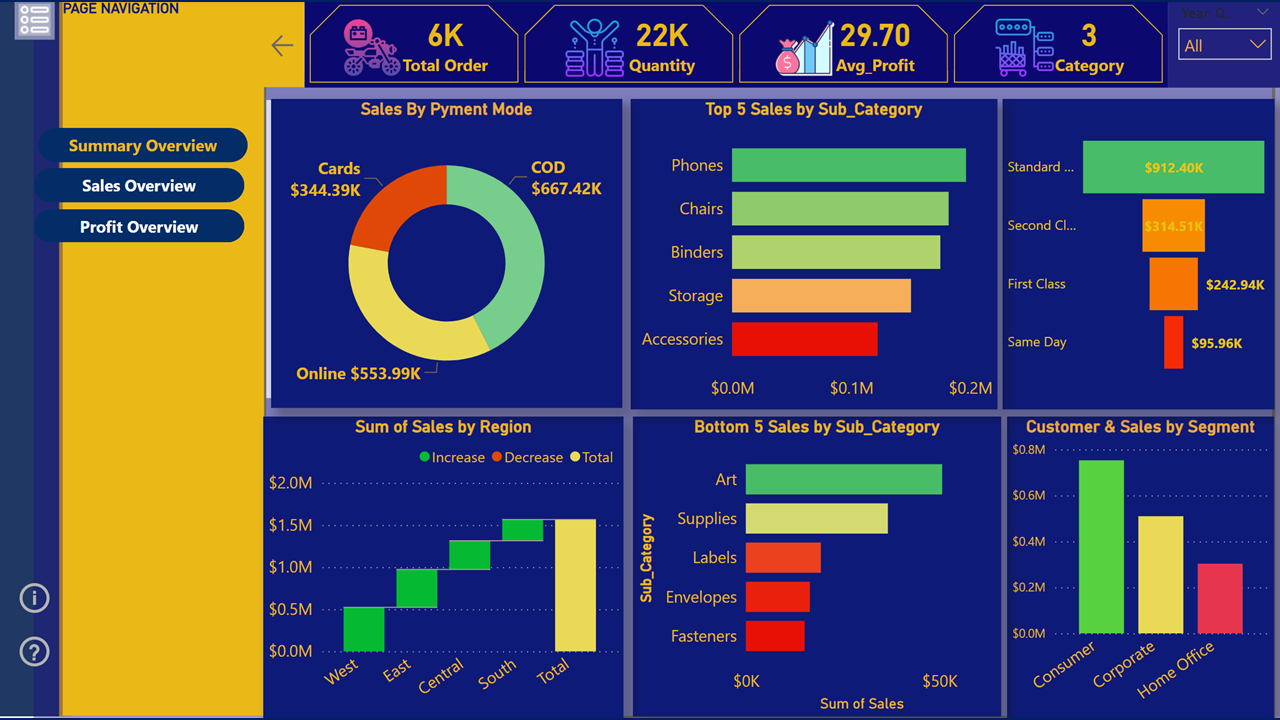

The dashboard page shown, as its layout file describes it:
{"tool":"powerbi","page":{"name":"Summary Overview","canvas":[1280,720],"ordinal":1},"visuals":[{"type":"group","id":"g1","title":"Menu Objects","box":[36.6,0,1227.9,717.3],"z":0},{"type":"group","id":"g2","title":"Menu Bar","box":[16.5,0,40,673],"z":1000},{"type":"actionButton","title":"Qs","box":[16.5,633.1,39.8,39.8],"z":6125,"group":"g2"},{"type":"actionButton","title":"Info","box":[16.5,579.6,39.8,39.8],"z":6250,"group":"g2"},{"type":"actionButton","title":"Menu","box":[16.5,0,40,40],"z":6500,"group":"g2"},{"type":"actionButton","title":"Close Button","box":[261.2,2.9,47.5,74.2],"z":8000,"group":"g1"},{"type":"shape","title":"📚PAGE NAVIGATOR","box":[59.2,0,200.5,717.2],"z":9000,"group":"g1"},{"type":"actionButton","title":"Profit","box":[40.7,210.9,209.2,34],"z":10000,"group":"g1"},{"type":"actionButton","title":"Sales","box":[42.7,165.2,209.2,34],"z":12000,"group":"g1"},{"type":"waterfallChart","title":"Sum of Sales by Year","fields":{"Y":["Sum(SuperStore_Sales.Sales)"],"Category":["SuperStore_Sales.Ship_Date.Variation.Date Hierarchy.Year"]},"box":[906.6,427.3,357.3,286.3],"z":12156,"group":"g1"},{"type":"clusteredBarChart","title":"Sales by Category ","fields":{"Category":["SuperStore_Sales.Category"],"Y":["Sum(SuperStore_Sales.Sales)"]},"box":[269.3,427.4,323.6,288.1],"z":12312,"group":"g1"},{"type":"clusteredBarChart","title":"Sales by Product_Name","fields":{"Category":["SuperStore_Sales.Sub_Category"],"Y":["Sum(SuperStore_Sales.Sales)"]},"box":[598.8,427.3,298.1,289.5],"z":12343,"group":"g1"},{"type":"shapeMap","fields":{"Category":["SuperStore_Sales.State"],"Value":["CountNonNull(SuperStore_Sales.City)"],"Series":["SuperStore_Sales.City Hierarchy.City"]},"box":[1044.5,186.3,217.1,234.2],"z":12351,"group":"g1"},{"type":"donutChart","title":"Sales by Payment Mode","fields":{"Category":["SuperStore_Sales.Payment_Mode"],"Y":["Sum(SuperStore_Sales.Sales)"]},"box":[786.7,186.3,248.6,234.2],"z":12359,"group":"g1"},{"type":"pieChart","title":"Sales by Segment","fields":{"Y":["Sum(SuperStore_Sales.Sales)"],"Category":["SuperStore_Sales.Segment"]},"box":[527.1,188.7,249.2,230.6],"z":12375,"group":"g1"},{"type":"donutChart","title":"Sales by Ship Mode","fields":{"Y":["Sum(SuperStore_Sales.Sales)"],"Category":["SuperStore_Sales.Ship_Mode"]},"box":[269.5,186.1,250,230],"z":12625,"group":"g1"},{"type":"image","title":"Image-Cat","box":[1094.1,83.1,164.8,95.6],"z":12750,"group":"g1"},{"type":"card","title":"Category","fields":{"Values":["Count(SuperStore_Sales.Category)"]},"box":[1095.5,78.8,148.7,98.7],"z":13000,"group":"g1"},{"type":"image","box":[1095.3,89.8,44.9,46.4],"z":13375,"group":"g1"},{"type":"image","title":"Image-Sub Cat","box":[933.4,83.1,152.4,95.6],"z":13750,"group":"g1"},{"type":"card","title":"Sub Category","fields":{"Values":["Count(SuperStore_Sales.Sub_Category)"]},"box":[933.4,88.7,149.6,90],"z":14500,"group":"g1"},{"type":"image","box":[923.5,89.8,60.4,46.4],"z":14875,"group":"g1"},{"type":"cardVisual","title":"Sales-All","fields":{"Data":["Sum(SuperStore_Sales.Sales)","Sum(SuperStore_Sales.Quantity)","Sum(SuperStore_Sales.Profit)","Count(SuperStore_Sales.Ship_Mode)"]},"box":[264.3,83.1,655.2,95.6],"z":15250,"group":"g1"},{"type":"slicer","title":"Payment Mode","fields":{"Values":["SuperStore_Sales.Payment_Mode"]},"box":[1167.5,0,97,74.8],"z":18000,"group":"g1"},{"type":"slicer","title":"Year","fields":{"Values":["SuperStore_Sales.Ship_Date.Variation.Date Hierarchy.Year","SuperStore_Sales.Ship_Date.Variation.Date Hierarchy.Quarter","SuperStore_Sales.Ship_Date.Variation.Date Hierarchy.Month","SuperStore_Sales.Ship_Date.Variation.Date Hierarchy.Day"]},"box":[1062.2,0,105.3,74.8],"z":19000,"group":"g1"},{"type":"slicer","title":"Month","fields":{"Values":["SuperStore_Sales.Ship_Month_Name"]},"box":[915.4,0,141.3,74.8],"z":20000,"group":"g1"},{"type":"slicer","title":"Region","fields":{"Values":["SuperStore_Sales.Region"]},"box":[534.4,0,378.2,74.8],"z":21000,"group":"g1"},{"type":"textbox","title":"Store","box":[292.6,0,242.5,73.7],"z":22000,"group":"g1"},{"type":"image","title":"Image-Store","box":[295.4,2.7,60.4,72.8],"z":23000,"group":"g1"},{"type":"actionButton","title":"Summary","box":[36.6,116.2,215.5,35.7],"z":24500,"group":"g1"}]}

Visuals, with their boxes on the page's 1280x720 design canvas (x1, y1, x2, y2). These are canvas units, not pixel positions in the 1280x720 screenshot, which may show the page scaled, cropped or inside an application window:
"Menu Objects" group: bbox=[37, 0, 1264, 717]
"Menu Bar" group: bbox=[16, 0, 56, 673]
"Qs" actionButton: bbox=[16, 633, 56, 673]
"Info" actionButton: bbox=[16, 580, 56, 619]
"Menu" actionButton: bbox=[16, 0, 56, 40]
"Close Button" actionButton: bbox=[261, 3, 309, 77]
"📚PAGE NAVIGATOR" shape: bbox=[59, 0, 260, 717]
"Profit" actionButton: bbox=[41, 211, 250, 245]
"Sales" actionButton: bbox=[43, 165, 252, 199]
"Sum of Sales by Year" waterfallChart: bbox=[907, 427, 1264, 714]
"Sales by Category " clusteredBarChart: bbox=[269, 427, 593, 716]
"Sales by Product_Name" clusteredBarChart: bbox=[599, 427, 897, 717]
shapeMap - SuperStore_Sales.State x CountNonNull(SuperStore_Sales.City): bbox=[1044, 186, 1262, 420]
"Sales by Payment Mode" donutChart: bbox=[787, 186, 1035, 420]
"Sales by Segment" pieChart: bbox=[527, 189, 776, 419]
"Sales by Ship Mode" donutChart: bbox=[270, 186, 520, 416]
"Image-Cat" image: bbox=[1094, 83, 1259, 179]
"Category" card: bbox=[1096, 79, 1244, 178]
image: bbox=[1095, 90, 1140, 136]
"Image-Sub Cat" image: bbox=[933, 83, 1086, 179]
"Sub Category" card: bbox=[933, 89, 1083, 179]
image: bbox=[924, 90, 984, 136]
"Sales-All" cardVisual: bbox=[264, 83, 920, 179]
"Payment Mode" slicer: bbox=[1168, 0, 1264, 75]
"Year" slicer: bbox=[1062, 0, 1168, 75]
"Month" slicer: bbox=[915, 0, 1057, 75]
"Region" slicer: bbox=[534, 0, 913, 75]
"Store" textbox: bbox=[293, 0, 535, 74]
"Image-Store" image: bbox=[295, 3, 356, 76]
"Summary" actionButton: bbox=[37, 116, 252, 152]
